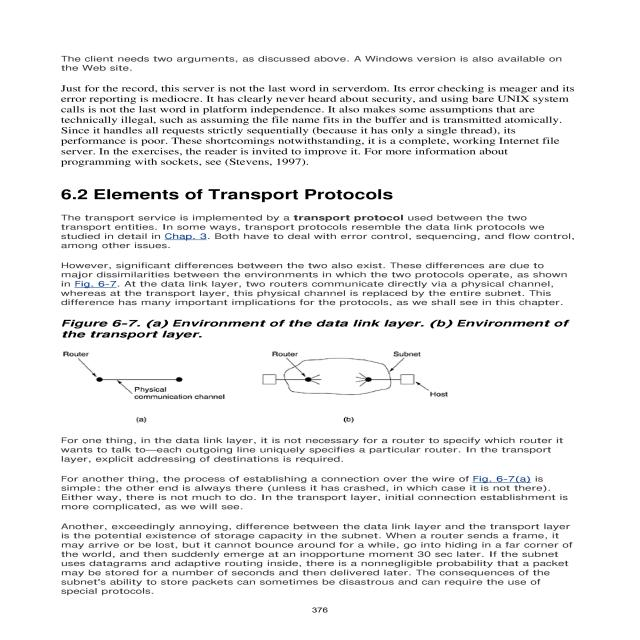diagram: (0, 314, 594, 427)
